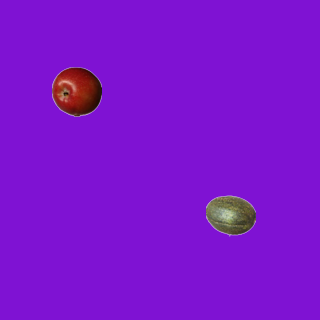Apple Braeburn: (51, 66, 101, 116)
Melon Piel de Sapo: (205, 190, 255, 240)
